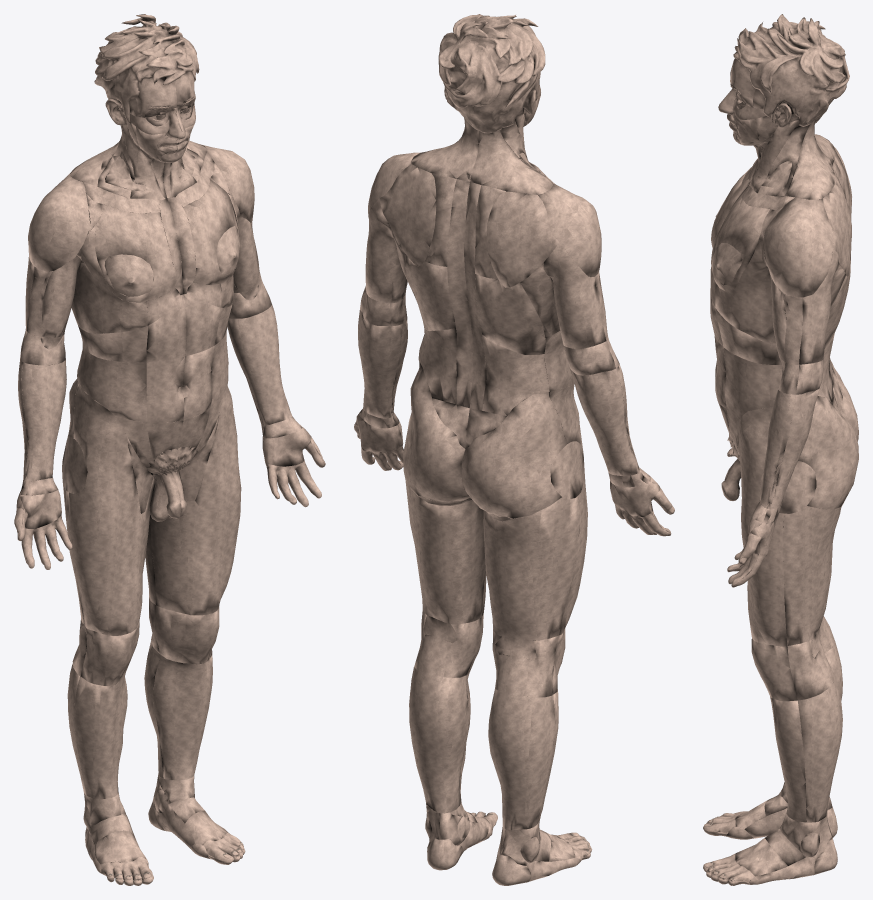
File: integumentary.opt.glb
The picture shows the model from 3 angles, left to right: view 1: azimuth 30°, elevation 25°; view 2: azimuth 150°, elevation 25°; view 3: azimuth 270°, elevation 25°; orthographic projection. The views are drawn at different scales.
Visible parts, largest first — view 1: anterior-region-of-thigh-r, anterior-region-of-thigh-l, hairs-of-head, anterior-region-of-leg-l, anterior-region-of-leg-r, pectoral-region-r, deltoid-region-r, anterior-region-of-forearm-l, anterior-region-of-forearm-r, lateral-region-of-thorax-r, lateral-region-of-abdomen-r, pectoral-region-l (+46 smaller); view 2: posterior-region-of-thigh-r, hairs-of-head, gluteal-region-r, posterior-region-of-thigh-l, posterior-region-of-leg-r, posterior-region-of-leg-l, gluteal-region-l, scapular-region-r, posterior-region-of-arm-r, infrascapular-region-r, scapular-region-l, posterior-region-of-forearm-r (+32 smaller); view 3: hairs-of-head, anterior-region-of-thigh-l, posterior-region-of-thigh-l, deltoid-region-l, gluteal-region-l, posterior-region-of-leg-l, lateral-region-of-thorax-l, anterior-region-of-leg-l, lateral-region-of-abdomen-l, pectoral-region-l, posterior-region-of-arm-l, posterior-region-of-neck-l (+45 smaller).
Boxes of the visible parts, x1=… form: anterior-region-of-thigh-r: x1=69, y1=381, x2=154, y2=635; anterior-region-of-thigh-l: x1=150, y1=383, x2=241, y2=615; hairs-of-head: x1=94, y1=14, x2=199, y2=123; anterior-region-of-leg-l: x1=153, y1=654, x2=212, y2=780; anterior-region-of-leg-r: x1=74, y1=673, x2=127, y2=799; pectoral-region-r: x1=94, y1=205, x2=174, y2=302; deltoid-region-r: x1=28, y1=175, x2=90, y2=271; anterior-region-of-forearm-l: x1=228, y1=305, x2=292, y2=425; anterior-region-of-forearm-r: x1=21, y1=358, x2=66, y2=481; lateral-region-of-thorax-r: x1=71, y1=224, x2=147, y2=333; lateral-region-of-abdomen-r: x1=77, y1=342, x2=147, y2=422; pectoral-region-l: x1=183, y1=179, x2=239, y2=284; posterior-region-of-thigh-r: x1=483, y1=496, x2=579, y2=640; hairs-of-head: x1=438, y1=14, x2=545, y2=133; gluteal-region-r: x1=461, y1=392, x2=567, y2=518; posterior-region-of-thigh-l: x1=403, y1=471, x2=485, y2=624; posterior-region-of-leg-r: x1=488, y1=689, x2=555, y2=830; posterior-region-of-leg-l: x1=409, y1=667, x2=468, y2=813; gluteal-region-l: x1=403, y1=362, x2=470, y2=502; scapular-region-r: x1=486, y1=191, x2=559, y2=287; posterior-region-of-arm-r: x1=543, y1=242, x2=605, y2=348; infrascapular-region-r: x1=475, y1=274, x2=545, y2=354; scapular-region-l: x1=379, y1=164, x2=436, y2=266; posterior-region-of-forearm-r: x1=570, y1=369, x2=640, y2=476; hairs-of-head: x1=733, y1=14, x2=849, y2=126; anterior-region-of-thigh-l: x1=738, y1=407, x2=787, y2=646; posterior-region-of-thigh-l: x1=783, y1=506, x2=841, y2=645; deltoid-region-l: x1=763, y1=197, x2=834, y2=297; gluteal-region-l: x1=798, y1=396, x2=858, y2=509; posterior-region-of-leg-l: x1=798, y1=678, x2=842, y2=822; lateral-region-of-thorax-l: x1=715, y1=230, x2=845, y2=344; anterior-region-of-leg-l: x1=770, y1=696, x2=806, y2=822; lateral-region-of-abdomen-l: x1=723, y1=347, x2=782, y2=414; pectoral-region-l: x1=711, y1=197, x2=769, y2=291; posterior-region-of-arm-l: x1=799, y1=248, x2=838, y2=364; posterior-region-of-neck-l: x1=784, y1=120, x2=834, y2=199.
Bounding box in the file's own units: 0.6801 × 1.74 × 0.2947.
2 materials, 2 textured.
